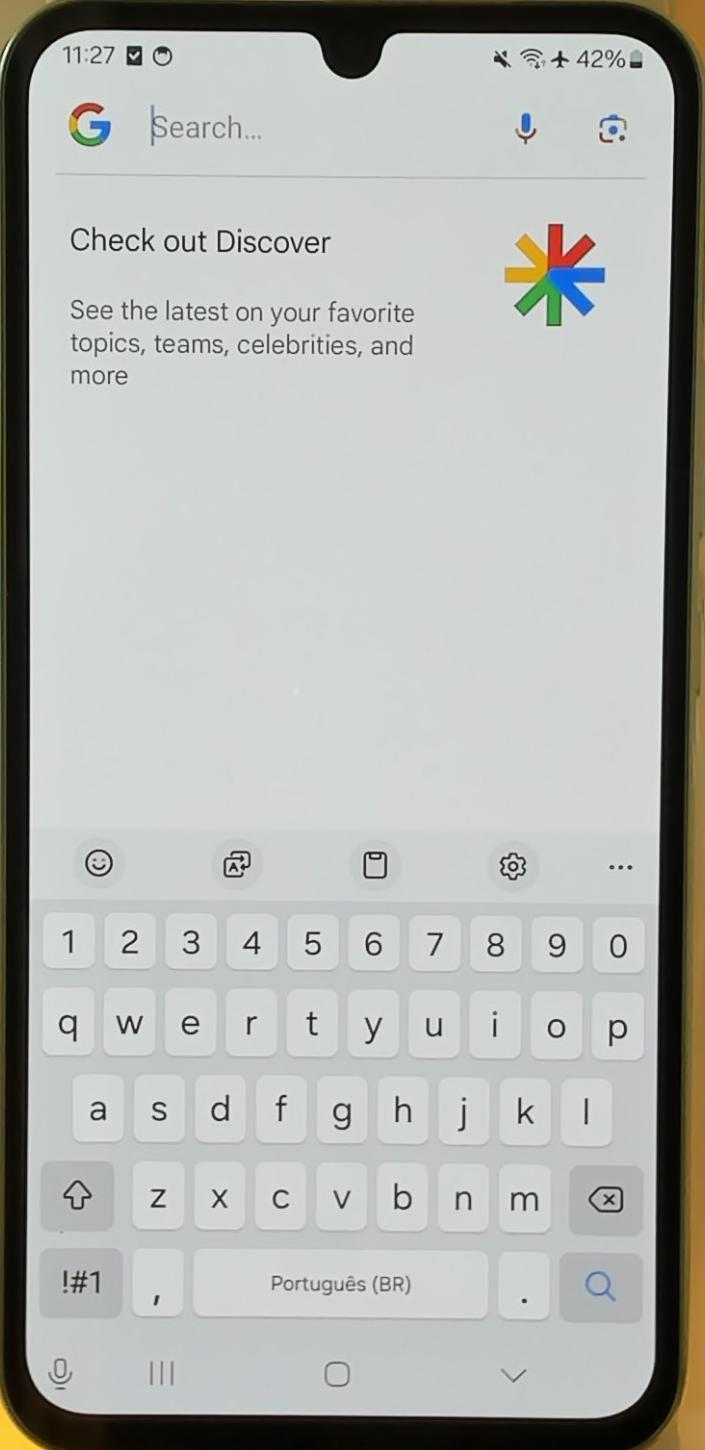CommunBotton: (208, 826, 270, 890), (42, 1338, 92, 1414), (350, 834, 402, 904), (302, 1348, 366, 1404), (72, 824, 118, 892), (482, 1340, 536, 1396), (138, 1344, 186, 1402), (486, 838, 534, 892)
TextField: (44, 80, 664, 192)
TextKeyboard: (38, 902, 652, 1324)
menu: (596, 844, 646, 890)
